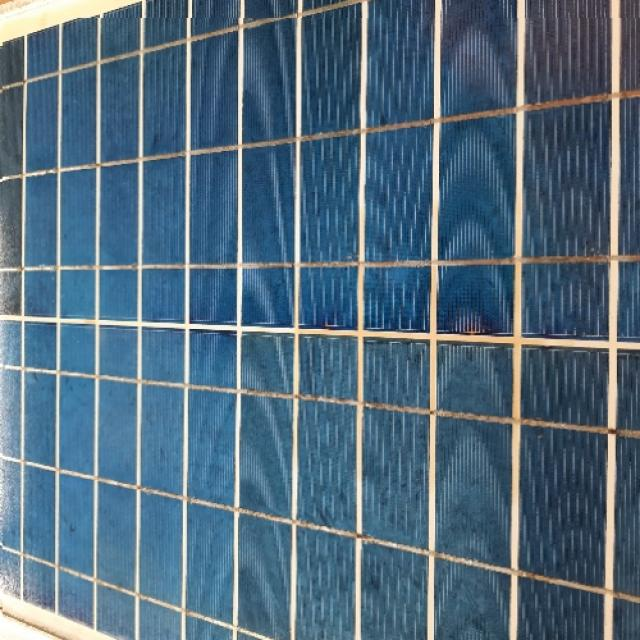Clean: (2, 18, 640, 640)
